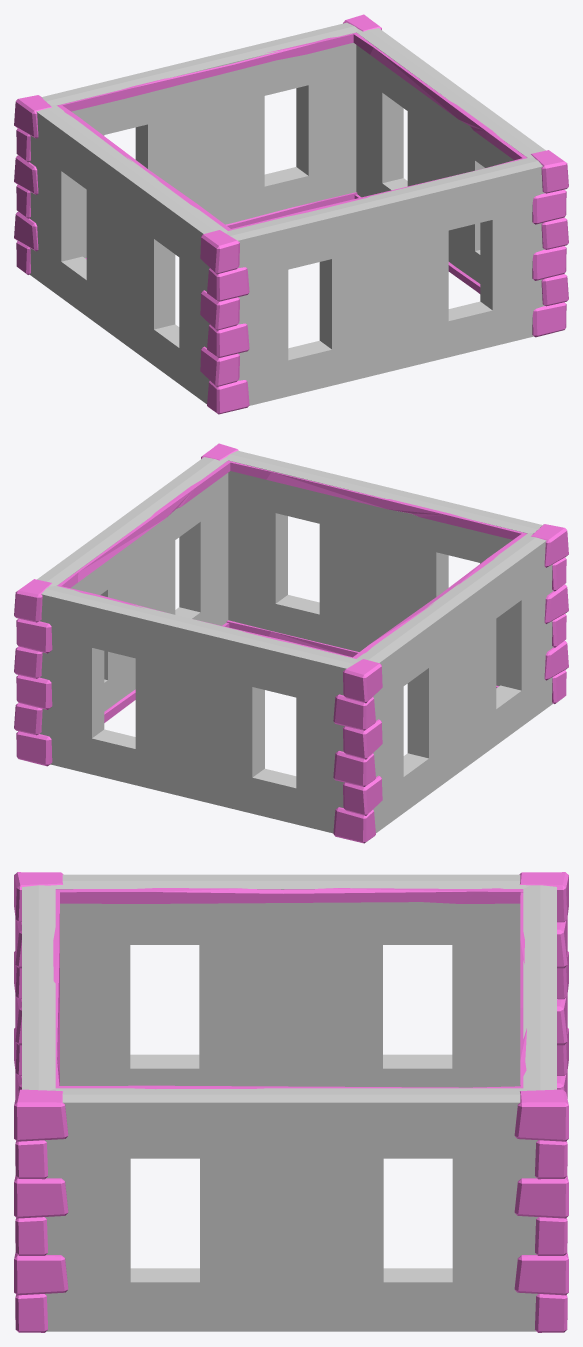
Rendered from SM_Tower_Square_6m_Windows_Nice_Fantasy_Base.fbx.
3 views of the same model, one above another, from view 1: azimuth 30°, elevation 25°; view 2: azimuth 150°, elevation 25°; view 3: azimuth 270°, elevation 25° (orthographic). The views are drawn at different scales.
Parts seen in each view (by area): view 1: SM_Tower_Square_6m_Windows_Nice_Fantasy_Base; view 2: SM_Tower_Square_6m_Windows_Nice_Fantasy_Base; view 3: SM_Tower_Square_6m_Windows_Nice_Fantasy_Base.
Boxes of the visible parts, box(x1,y1,x2,y2) form: SM_Tower_Square_6m_Windows_Nice_Fantasy_Base: box(14, 14, 568, 414); SM_Tower_Square_6m_Windows_Nice_Fantasy_Base: box(14, 443, 568, 843); SM_Tower_Square_6m_Windows_Nice_Fantasy_Base: box(14, 872, 568, 1332).
Size of the model in its own units: 6.61 by 3.05 by 6.59.
